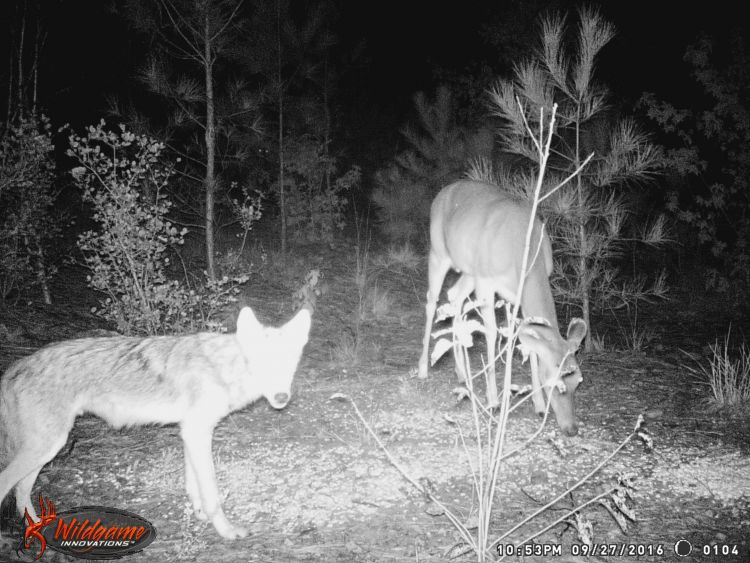coyote: (1, 286, 320, 561)
deer: (402, 158, 604, 452)
